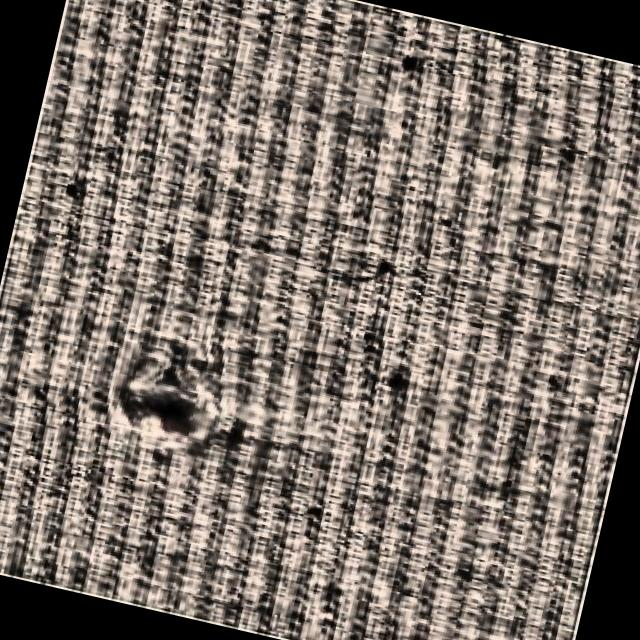cut: (98, 362, 238, 479), (387, 46, 445, 86), (52, 174, 101, 213)
